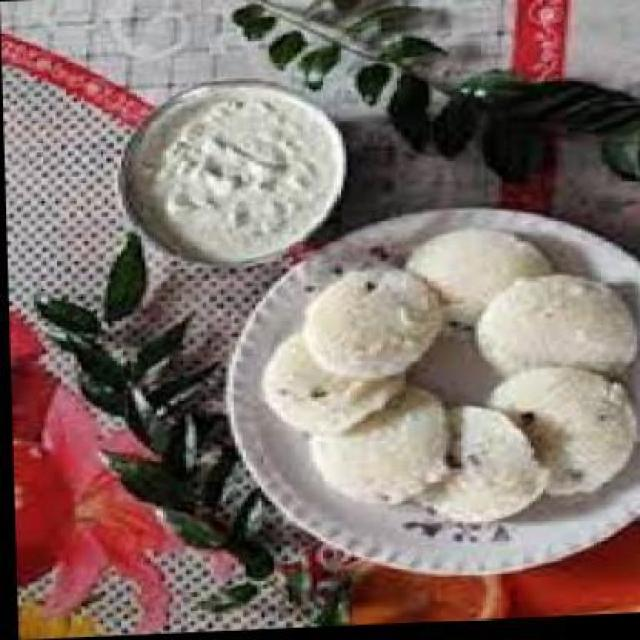idli: (483, 364, 637, 502), (402, 229, 552, 348), (408, 406, 549, 528), (306, 389, 446, 511), (474, 277, 635, 383), (303, 268, 442, 383), (258, 331, 404, 440)
